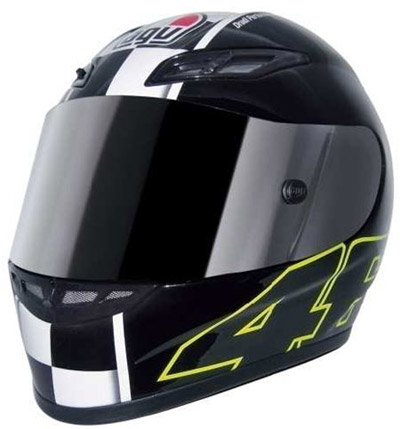helmet: (28, 21, 387, 394)
